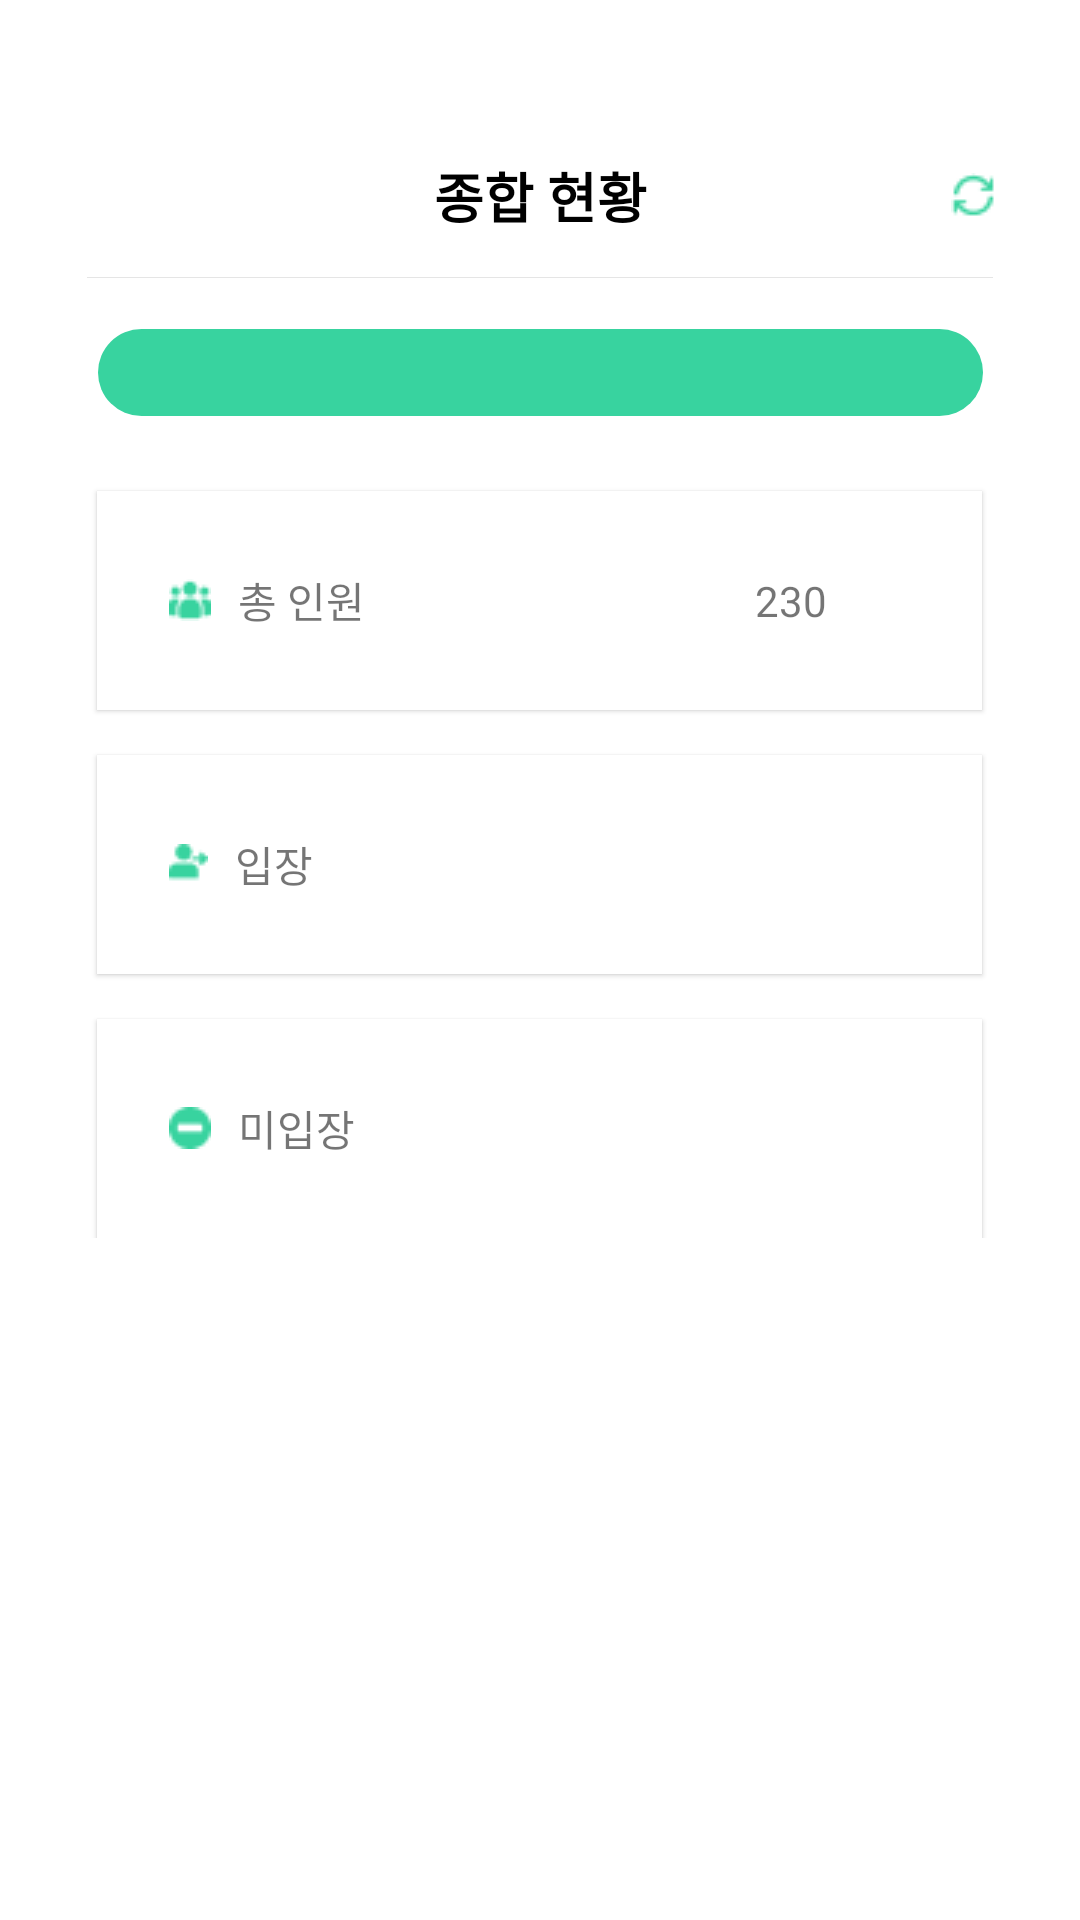

Where icons sit on this 1080px x 1920px app screen, as bbox(x1, y1, x2, y2):
refresh: bbox(951, 175, 994, 216)
